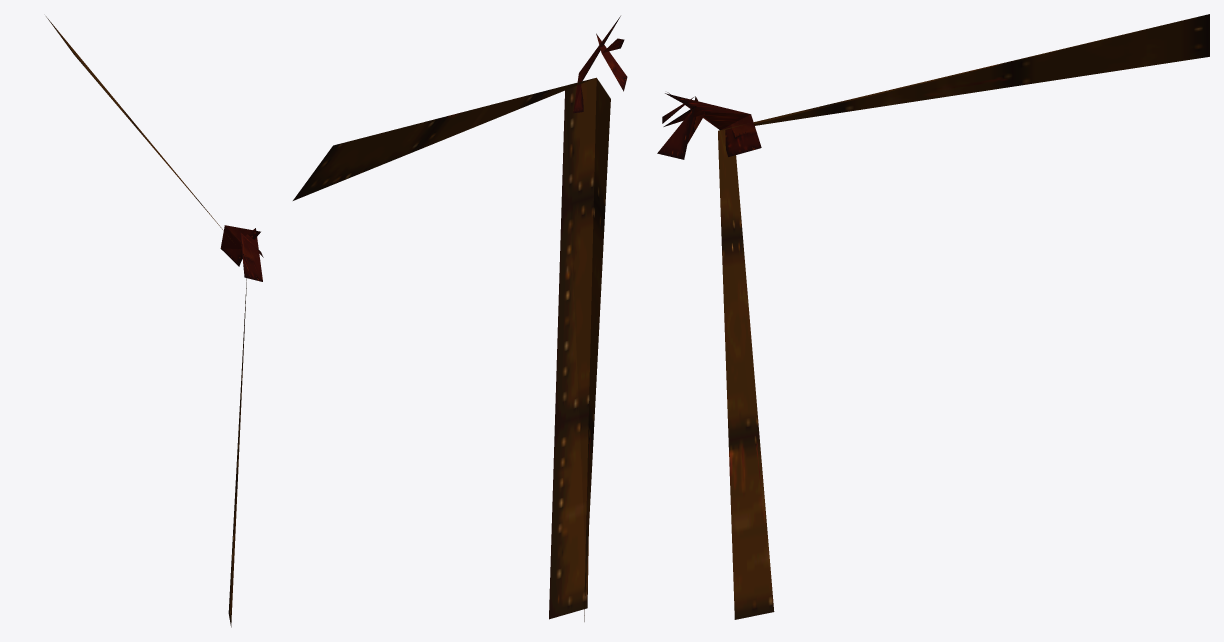
File: Stütze_Winkel2_889.glb
The picture shows the model from 3 angles, left to right: view 1: azimuth 30°, elevation 25°; view 2: azimuth 150°, elevation 25°; view 3: azimuth 270°, elevation 25°; orthographic projection. The views are drawn at different scales.
Parts seen in each view (by area): view 1: pPlaneShape53, pPlaneShape66, pPlaneShape65; view 2: pPlaneShape53, pPlaneShape65, pPlaneShape66; view 3: pPlaneShape53, pPlaneShape65, pPlaneShape66.
Part boxes in pixels (<box>): pPlaneShape53: <box>46,16,246,627</box>; pPlaneShape66: <box>240,228,263,281</box>; pPlaneShape65: <box>220,225,260,266</box>; pPlaneShape53: <box>293,77,610,621</box>; pPlaneShape65: <box>573,16,620,113</box>; pPlaneShape66: <box>596,33,627,91</box>; pPlaneShape53: <box>718,14,1209,619</box>; pPlaneShape65: <box>665,92,761,156</box>; pPlaneShape66: <box>657,96,705,159</box>.
Size of the model in its own units: 0.0975 by 0.7416 by 0.6132.
Materials: 3 (3 with a texture image).
